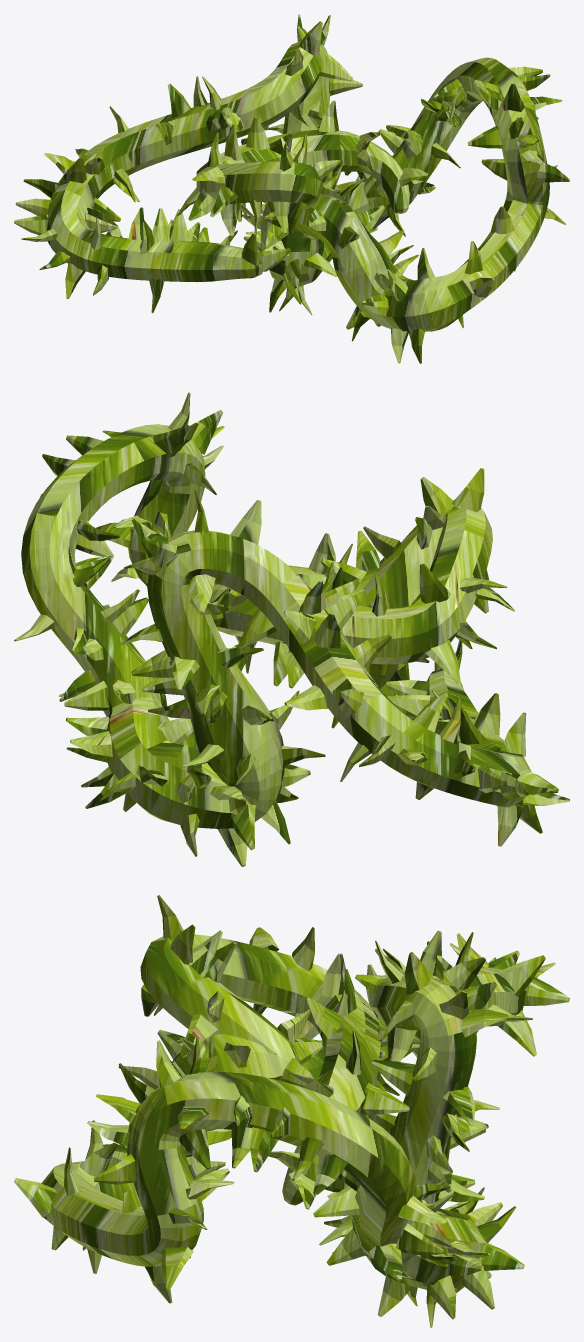
The model's file is tappura1.fbx.
3 views of the same model, one above another, from view 1: azimuth 30°, elevation 25°; view 2: azimuth 150°, elevation 25°; view 3: azimuth 270°, elevation 25° (orthographic). The views are drawn at different scales.
Visible parts, largest first — view 1: BezierCurve.001; view 2: BezierCurve.001; view 3: BezierCurve.001.
Boxes of the visible parts, x1,y1,x2,y2 form: BezierCurve.001: (14, 14, 569, 363); BezierCurve.001: (14, 392, 569, 866); BezierCurve.001: (14, 895, 569, 1327).
Bounding box in the file's own units: 411 × 241 × 320.
